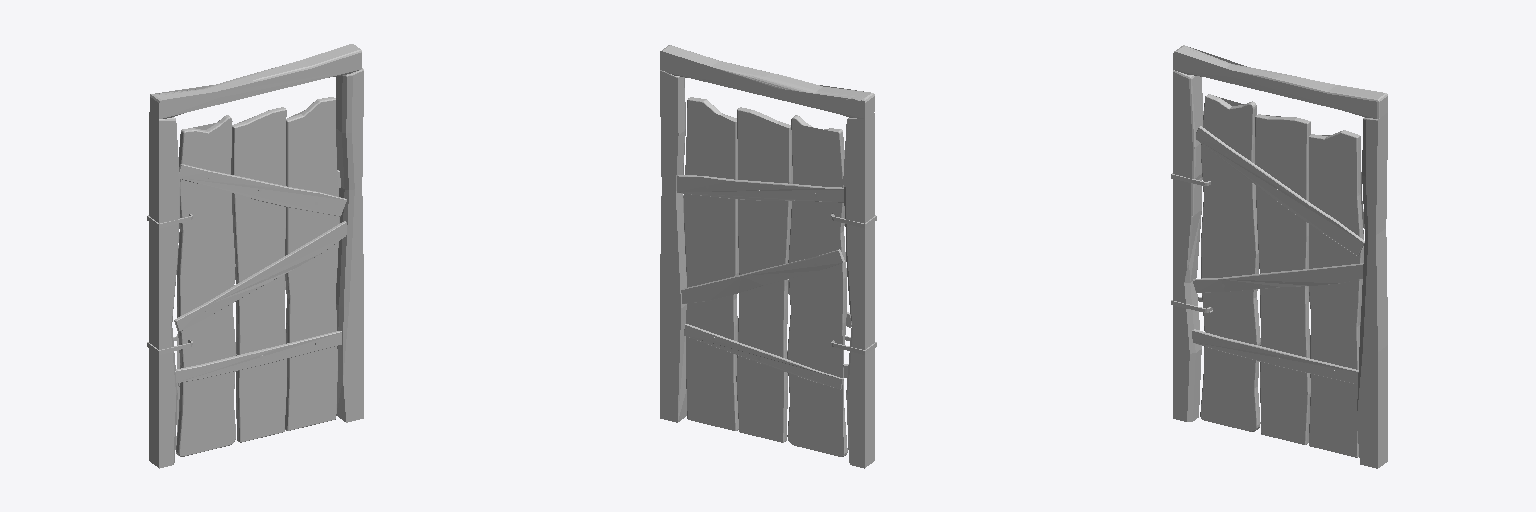
Rendered from Door_VAR02.obj.
The picture shows the model from 3 angles: view 1: azimuth 30°, elevation 25°; view 2: azimuth 150°, elevation 25°; view 3: azimuth 330°, elevation 25°; orthographic projection.
Parts seen in each view (by area): view 1: PuertaVar2_Cuerpo, PuertaVar2_Marco, PuertaVar2_Tablas; view 2: PuertaVar2_Cuerpo, PuertaVar2_Marco, PuertaVar2_Tablas; view 3: PuertaVar2_Cuerpo, PuertaVar2_Marco, PuertaVar2_Tablas.
Boxes of the visible parts, box(x1,y1,x2,y2) form: PuertaVar2_Cuerpo: box(176, 97, 339, 456); PuertaVar2_Marco: box(149, 44, 363, 468); PuertaVar2_Tablas: box(174, 164, 346, 386); PuertaVar2_Cuerpo: box(684, 97, 847, 456); PuertaVar2_Marco: box(660, 45, 874, 468); PuertaVar2_Tablas: box(677, 175, 851, 389); PuertaVar2_Cuerpo: box(1200, 94, 1363, 457); PuertaVar2_Marco: box(1173, 45, 1387, 468); PuertaVar2_Tablas: box(1192, 126, 1364, 383).
Bounding box in the file's own units: 1.15 × 1.96 × 0.1142.